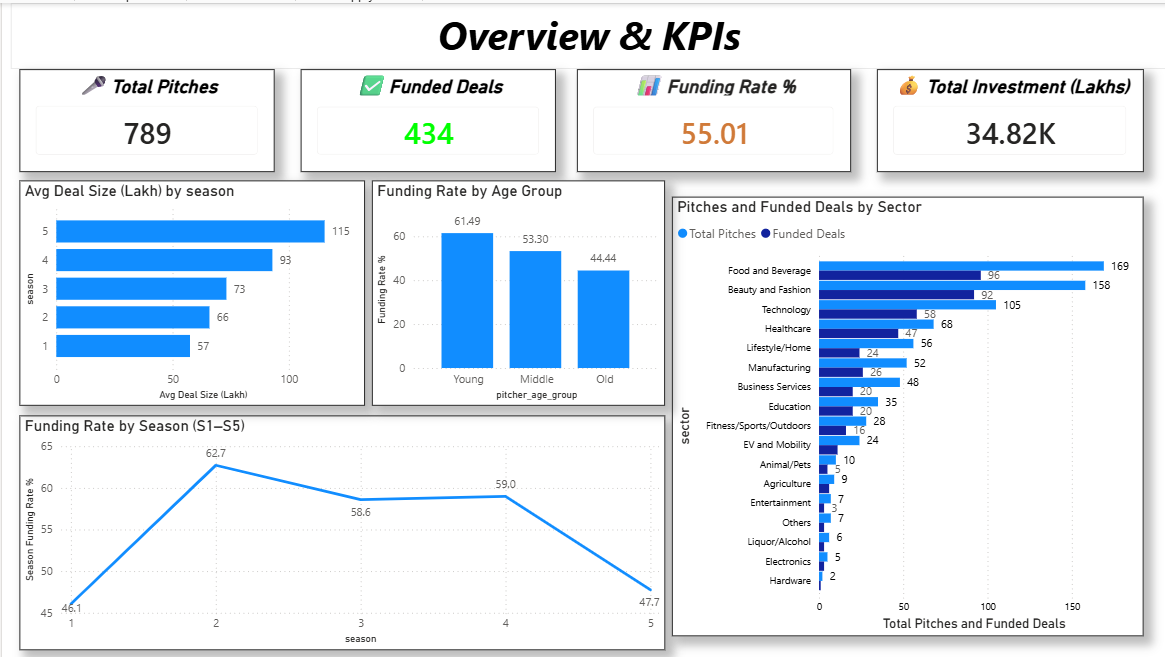

The dashboard page shown, as its layout file describes it:
{"tool":"powerbi","page":{"name":"Overview & KPIs","canvas":[1280,720],"ordinal":0},"visuals":[{"type":"textbox","box":[9.7,0,1270.3,72.9],"z":0},{"type":"cardVisual","title":"🎤 Total Pitches","fields":{"Data":["Measures_table.Total Pitches"]},"box":[19.5,72.9,280.1,112.8],"z":1000},{"type":"cardVisual","title":"📊 Funding Rate %","fields":{"Data":["Measures_table.Funding Rate %"]},"box":[631.2,72.9,300.5,112.8],"z":2000},{"type":"cardVisual","title":"💰 Total Investment (Lakhs)","fields":{"Data":["Measures_table.Total Investment (Lakh)"]},"box":[960,72.9,292.8,112.8],"z":3000},{"type":"cardVisual","title":"✅ Funded Deals","fields":{"Data":["Measures_table.Funded Deals"]},"box":[327.8,72.9,280.1,112.8],"z":4000},{"type":"lineChart","title":"Funding Rate by Season (S1–S5)","fields":{"Y":["Measures_table.Season Funding Rate %"],"Category":["season_summary.season"]},"box":[19.5,453.3,709.1,257.8],"z":5000},{"type":"clusteredBarChart","title":"Pitches and Funded Deals by Sector","fields":{"Category":["pitches.sector"],"Y":["Measures_table.Total Pitches","Measures_table.Funded Deals"]},"box":[735.3,212,517.4,482.4],"z":6000},{"type":"barChart","fields":{"Category":["pitches.season"],"Y":["Measures_table.Avg Deal Size (Lakh)"]},"box":[19.5,195.5,379.3,247.1],"z":7000},{"type":"columnChart","title":"Funding Rate by Age Group","fields":{"Category":["pitches.pitcher_age_group"],"Y":["Measures_table.Funding Rate %"]},"box":[406.6,195.5,321.9,247.1],"z":8000}]}

Visuals, with their boxes in screenshot pixels (x1, y1, x2, y2), scaled from the page's 1280x720 canvas onto the 1165x657 screenshot:
textbox: region(9, 0, 1164, 67)
"🎤 Total Pitches" cardVisual: region(18, 67, 273, 169)
"📊 Funding Rate %" cardVisual: region(574, 67, 848, 169)
"💰 Total Investment (Lakhs)" cardVisual: region(874, 67, 1140, 169)
"✅ Funded Deals" cardVisual: region(298, 67, 553, 169)
"Funding Rate by Season (S1–S5)" lineChart: region(18, 414, 663, 649)
"Pitches and Funded Deals by Sector" clusteredBarChart: region(669, 193, 1140, 634)
barChart - pitches.season x Measures_table.Avg Deal Size (Lakh): region(18, 178, 363, 404)
"Funding Rate by Age Group" columnChart: region(370, 178, 663, 404)
